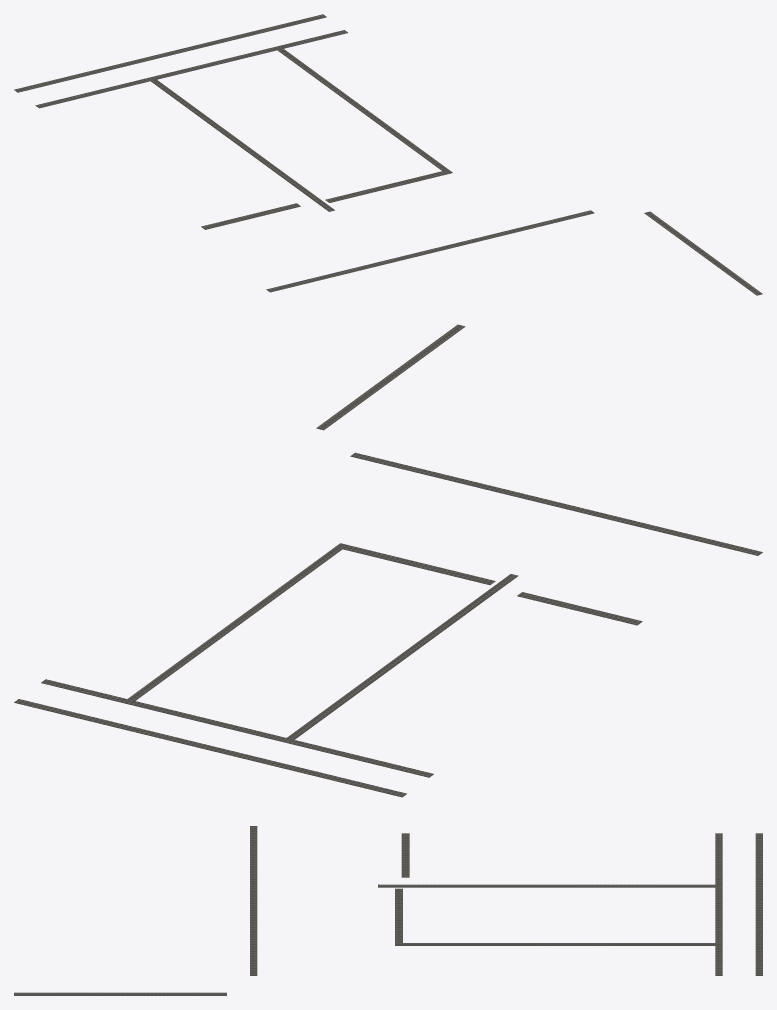
Rendered from A_streets.glb.
The picture shows the model from 3 angles, top to bottom: view 1: azimuth 30°, elevation 25°; view 2: azimuth 150°, elevation 25°; view 3: azimuth 270°, elevation 25°; orthographic projection. The views are drawn at different scales.
Parts seen in each view (by area): view 1: A_streets; view 2: A_streets; view 3: A_streets.
Part boxes in pixels (x1,y1,x2,y2): A_streets: [14, 14, 762, 295]; A_streets: [14, 324, 762, 797]; A_streets: [14, 826, 762, 995].
Bounding box in the file's own units: 238 × 0.2 × 444.
Materials: 1 (1 with a texture image).
